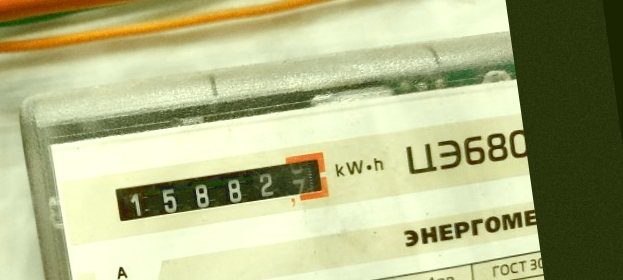1: (127, 189, 144, 218)
2: (256, 169, 276, 199)
5: (159, 185, 180, 214)
7: (289, 175, 308, 194)
8: (191, 180, 211, 210), (225, 175, 243, 205)
screen: (99, 142, 340, 236)
